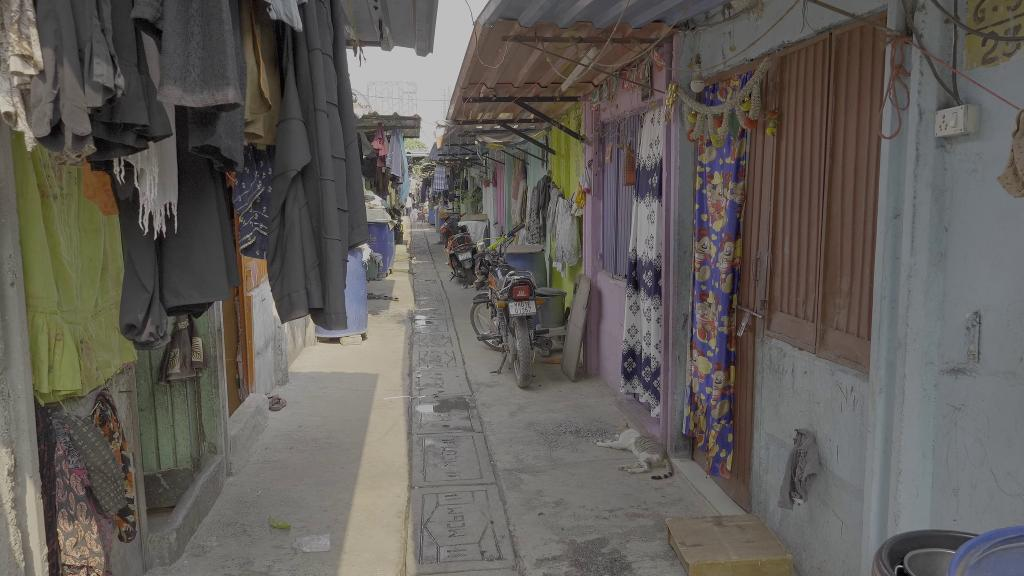garbage: (290, 532, 336, 558), (269, 515, 292, 532)
